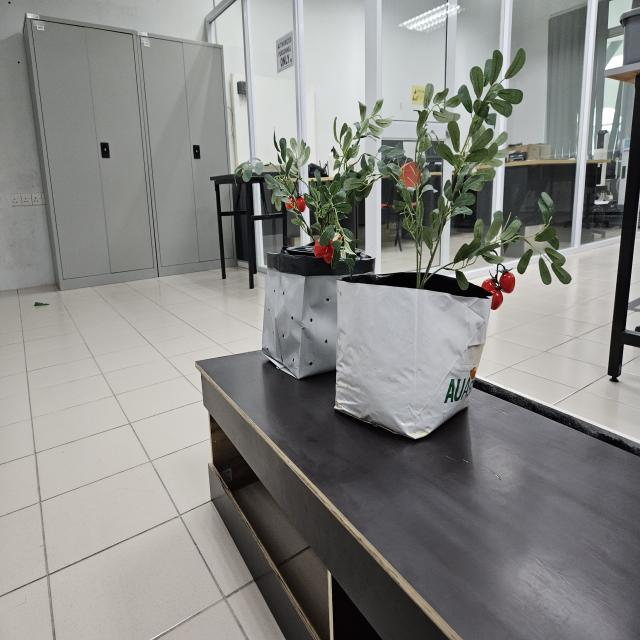Soilbag: (334, 280, 492, 442), (261, 268, 341, 380)
Tomato: (482, 270, 515, 310), (315, 233, 342, 263), (285, 195, 305, 213)
plant: (233, 49, 572, 300)
